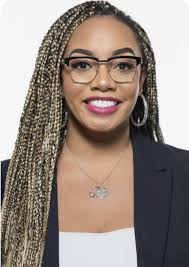person: (48, 4, 153, 145)
